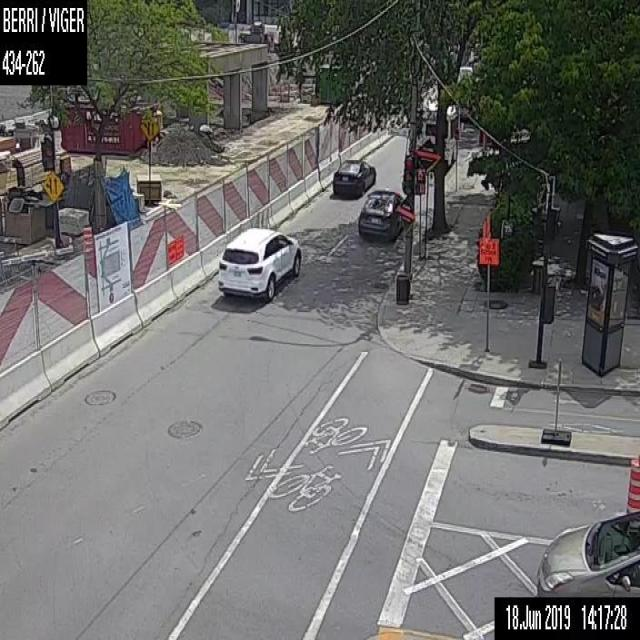bus: (411, 96, 459, 168)
construction: (477, 219, 500, 352), (624, 455, 639, 512), (82, 226, 92, 254)
vehicle: (535, 508, 639, 596), (215, 224, 302, 299), (358, 188, 405, 243), (333, 159, 376, 197)
